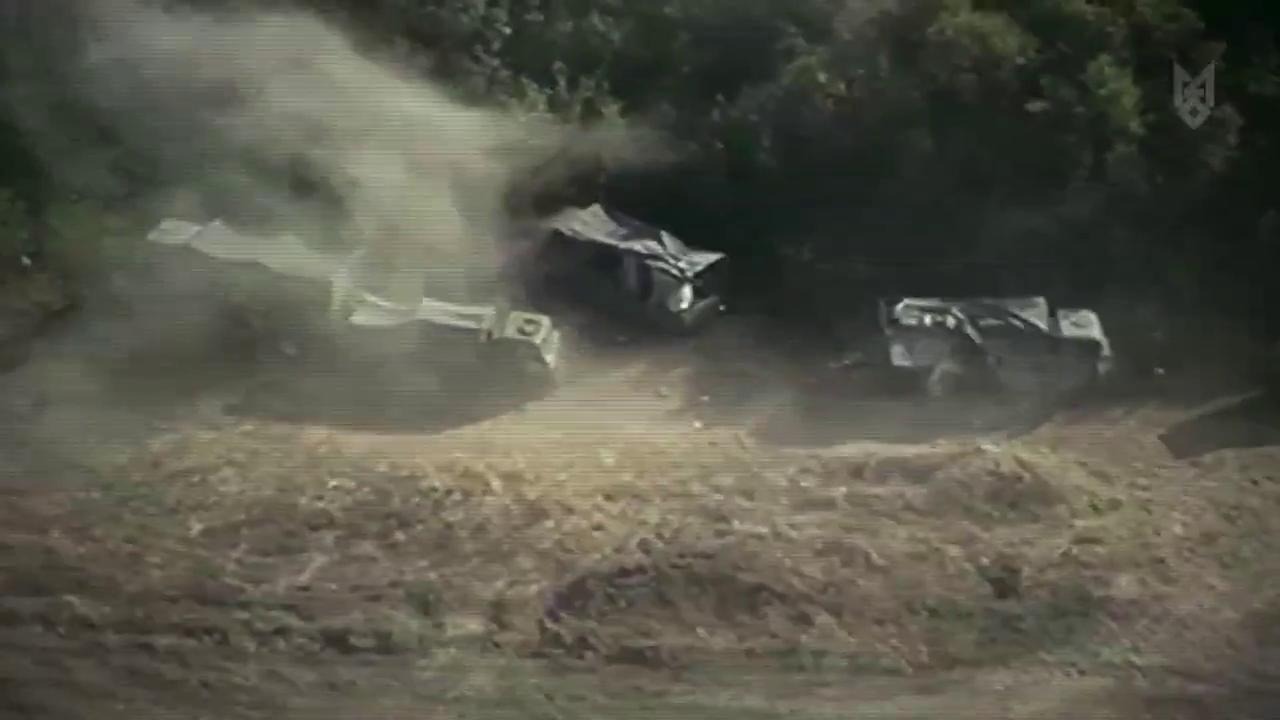tank: (125, 201, 368, 374), (865, 286, 1122, 431), (336, 273, 576, 416), (525, 202, 725, 332)
